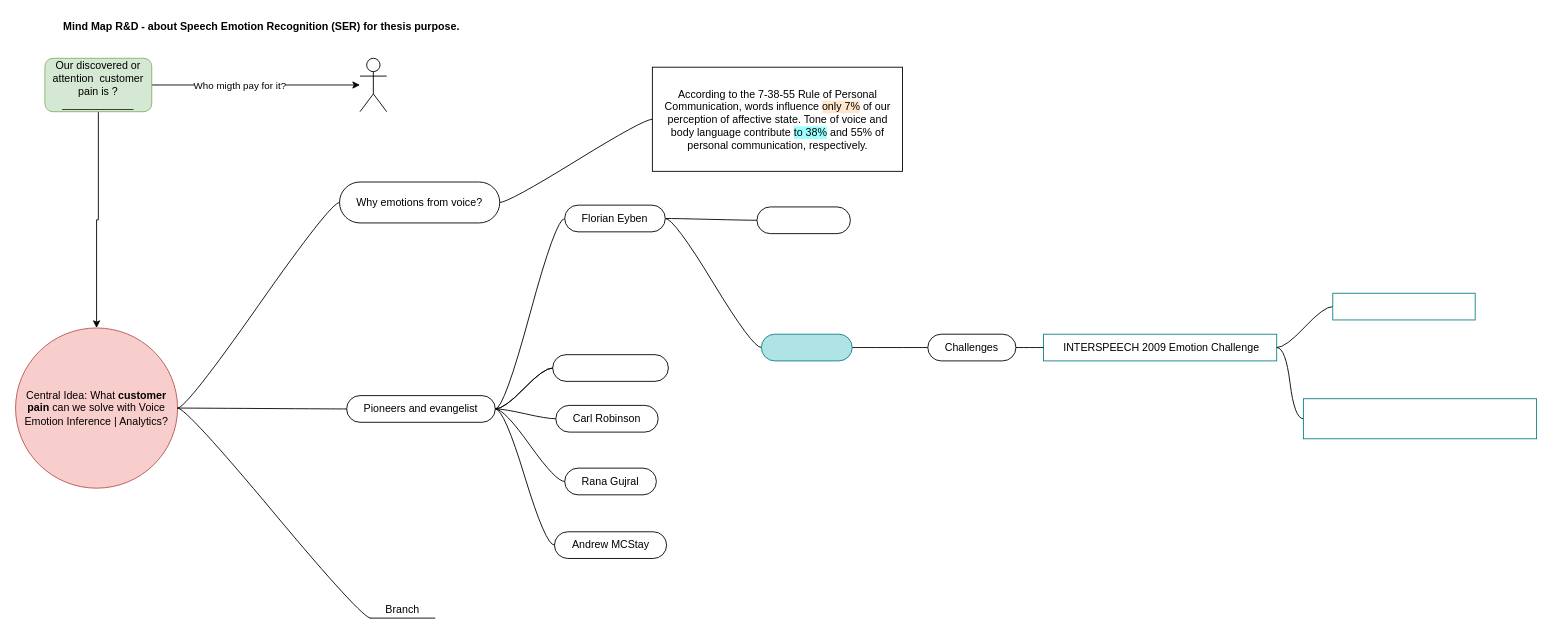
Image size: 1552x634. Some labels were removed from this diagram. The shapes that lost their labels are listed below. From the top down, each one's box as (x1, y1, x2, y2) in pixels, then its label:
(359, 57, 387, 112): Customer- Persona
(756, 206, 850, 234): audEERING
(1332, 292, 1475, 320): GeMAPS Feature SET
(761, 333, 852, 361): openSMILE
(552, 354, 668, 381): Rana el Kaliouby
(1303, 398, 1537, 439): ComParE 2016 Feature SET INTERSPEECH 2016 Emotion Challenge
